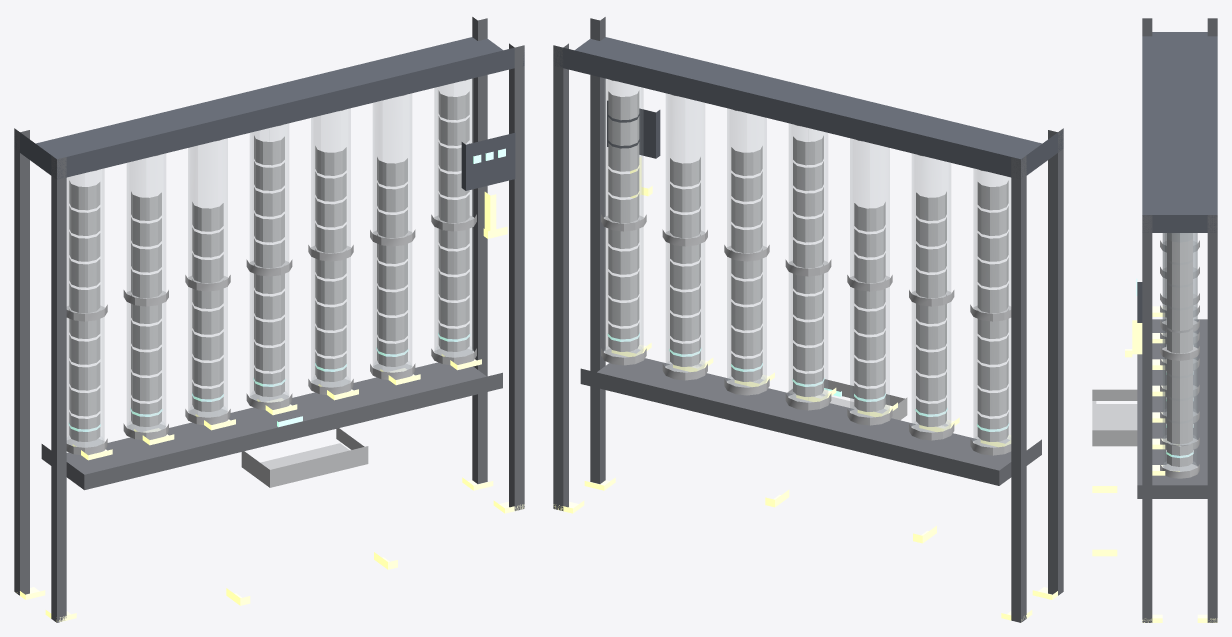
Rendered from iter_03.glb.
3 views of the same model, side by side, from view 1: azimuth 30°, elevation 25°; view 2: azimuth 150°, elevation 25°; view 3: azimuth 270°, elevation 25° (orthographic). The views are drawn at different scales.
Parts seen in each view (by area): view 1: Tubes, Capsules, Posts, Top_Cap, Feed_Chute, Tube_Collars, Pick_Tray, Request_Panel, Gate_Valves, Floor_Clamps, Capsule_Bands; view 2: Tubes, Capsules, Posts, Top_Cap, Feed_Chute, Tube_Collars, Gate_Valves, Request_Panel, Pick_Tray, Floor_Clamps, Capsule_Bands; view 3: Top_Cap, Posts, Tubes, Capsules, Feed_Chute, Pick_Tray, Tube_Collars, Gate_Valves, Release_Lever, Guide_Rails, Request_Panel, Floor_Clamps.
Part boxes in pixels (box(x1,y1,x2,y2)): Tubes: box(67, 78, 473, 447); Capsules: box(69, 90, 469, 441); Posts: box(14, 17, 524, 622); Top_Cap: box(14, 37, 524, 179); Feed_Chute: box(41, 362, 502, 490); Tube_Collars: box(66, 79, 476, 455); Pick_Tray: box(241, 428, 368, 487); Request_Panel: box(461, 133, 515, 190); Gate_Valves: box(72, 354, 481, 460); Floor_Clamps: box(17, 477, 524, 621); Capsule_Bands: box(68, 332, 470, 431); Tubes: box(604, 78, 1010, 447); Capsules: box(608, 90, 1008, 441); Posts: box(553, 17, 1063, 622); Top_Cap: box(553, 37, 1063, 179); Feed_Chute: box(580, 358, 1041, 485); Tube_Collars: box(601, 79, 1011, 455); Gate_Valves: box(611, 342, 1011, 447); Request_Panel: box(607, 100, 660, 158); Pick_Tray: box(787, 379, 907, 420); Floor_Clamps: box(553, 477, 1057, 622); Capsule_Bands: box(607, 332, 1009, 431); Top_Cap: box(1142, 32, 1217, 232); Posts: box(1142, 18, 1217, 622); Tubes: box(1162, 233, 1197, 471); Capsules: box(1167, 233, 1192, 466); Feed_Chute: box(1137, 319, 1207, 498); Pick_Tray: box(1092, 389, 1137, 446); Tube_Collars: box(1160, 240, 1199, 478); Gate_Valves: box(1152, 306, 1179, 475); Release_Lever: box(1125, 320, 1142, 357); Guide_Rails: box(1092, 486, 1117, 556); Request_Panel: box(1137, 282, 1142, 322); Floor_Clamps: box(1142, 614, 1217, 622).
Size of the model in its own units: 1.9 by 1.8 by 0.5.
